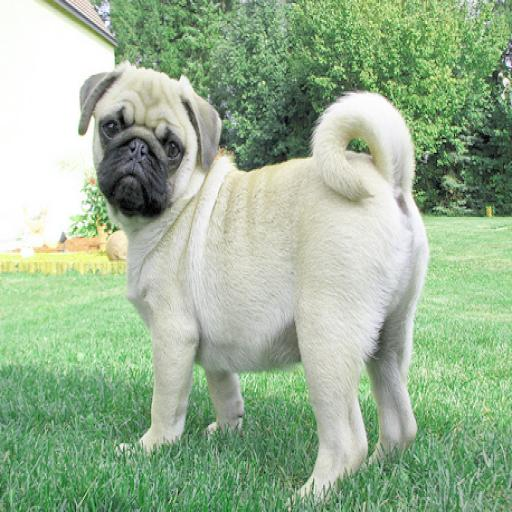dog_face: (73, 58, 220, 217)
